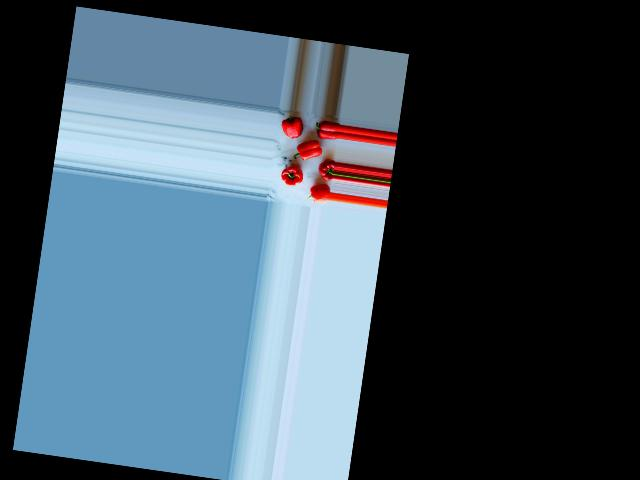bell_pepper: (316, 157, 335, 180)
